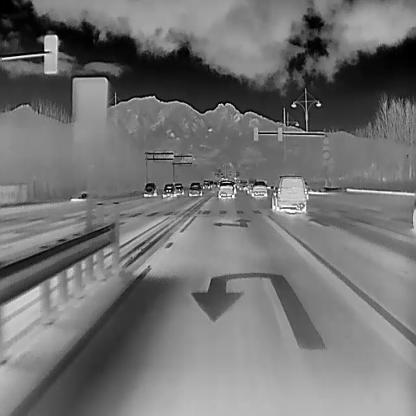car: (270, 174, 307, 212), (218, 179, 234, 198), (251, 180, 267, 196), (187, 180, 202, 196), (161, 182, 176, 197), (143, 180, 157, 196), (173, 181, 184, 195), (246, 179, 256, 193), (238, 178, 246, 189), (202, 178, 209, 189), (211, 180, 217, 186)
